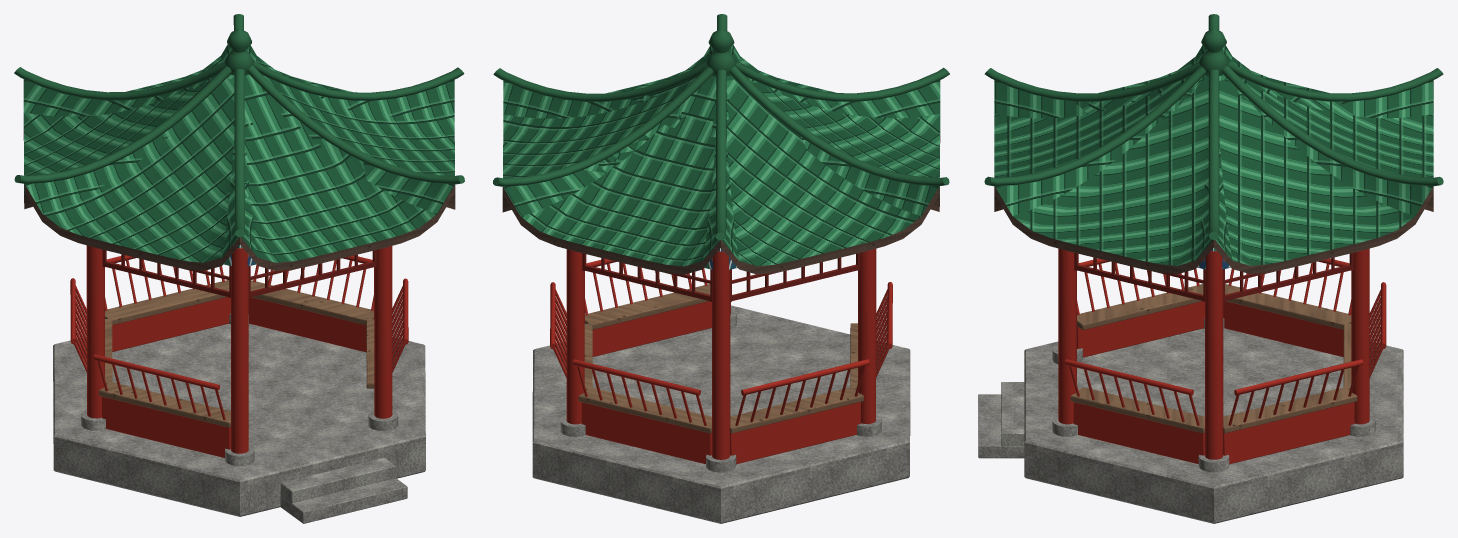
Rendered from pack-pavilion.glb.
3 views of the same model, side by side, from view 1: azimuth 30°, elevation 25°; view 2: azimuth 150°, elevation 25°; view 3: azimuth 270°, elevation 25° (orthographic).
Parts seen in each view (by area): view 1: pack-pavilion-Hexagonal_Garden_Pavilion; view 2: pack-pavilion-Hexagonal_Garden_Pavilion; view 3: pack-pavilion-Hexagonal_Garden_Pavilion.
Part boxes in pixels (x1,y1,x2,y2): pack-pavilion-Hexagonal_Garden_Pavilion: (14,14,464,523); pack-pavilion-Hexagonal_Garden_Pavilion: (493,14,949,523); pack-pavilion-Hexagonal_Garden_Pavilion: (978,14,1443,523).
Size of the model in its own units: 4.93 by 4.19 by 4.38.
6 materials, 5 textured.
